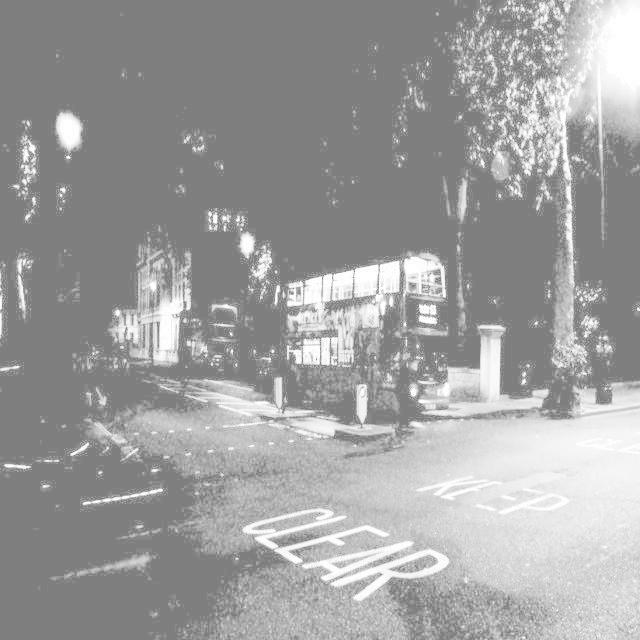Bus: (266, 239, 468, 425), (205, 294, 243, 380)
Tree: (529, 12, 591, 378)
